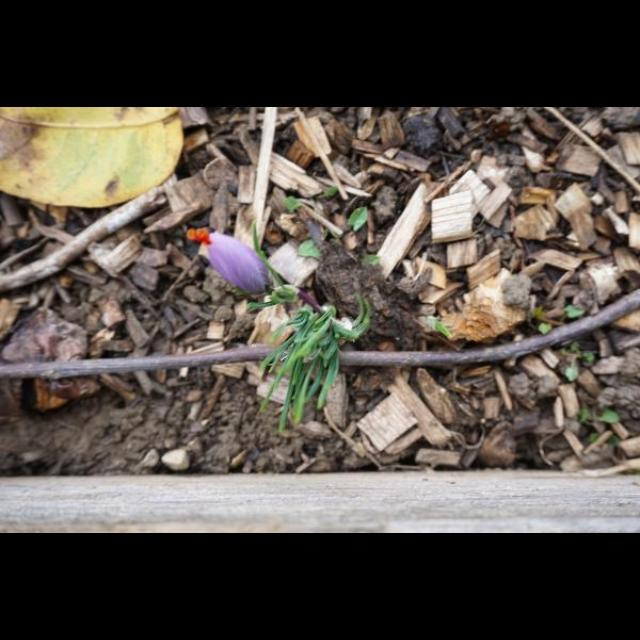flower: (186, 228, 272, 296)
